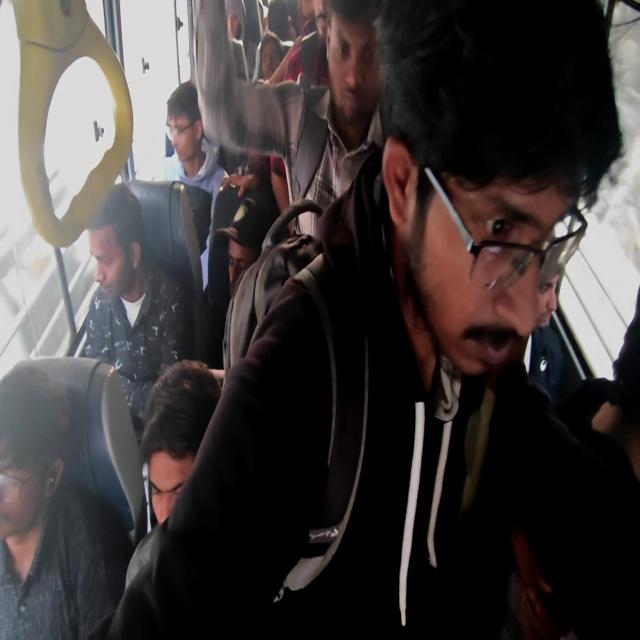person: (407, 57, 569, 372), (5, 334, 70, 505), (155, 369, 208, 564), (88, 176, 152, 322), (206, 198, 283, 314), (530, 263, 594, 350), (323, 12, 372, 118), (170, 105, 213, 186), (265, 34, 290, 92), (310, 8, 332, 56), (223, 0, 242, 40), (268, 0, 292, 30)
